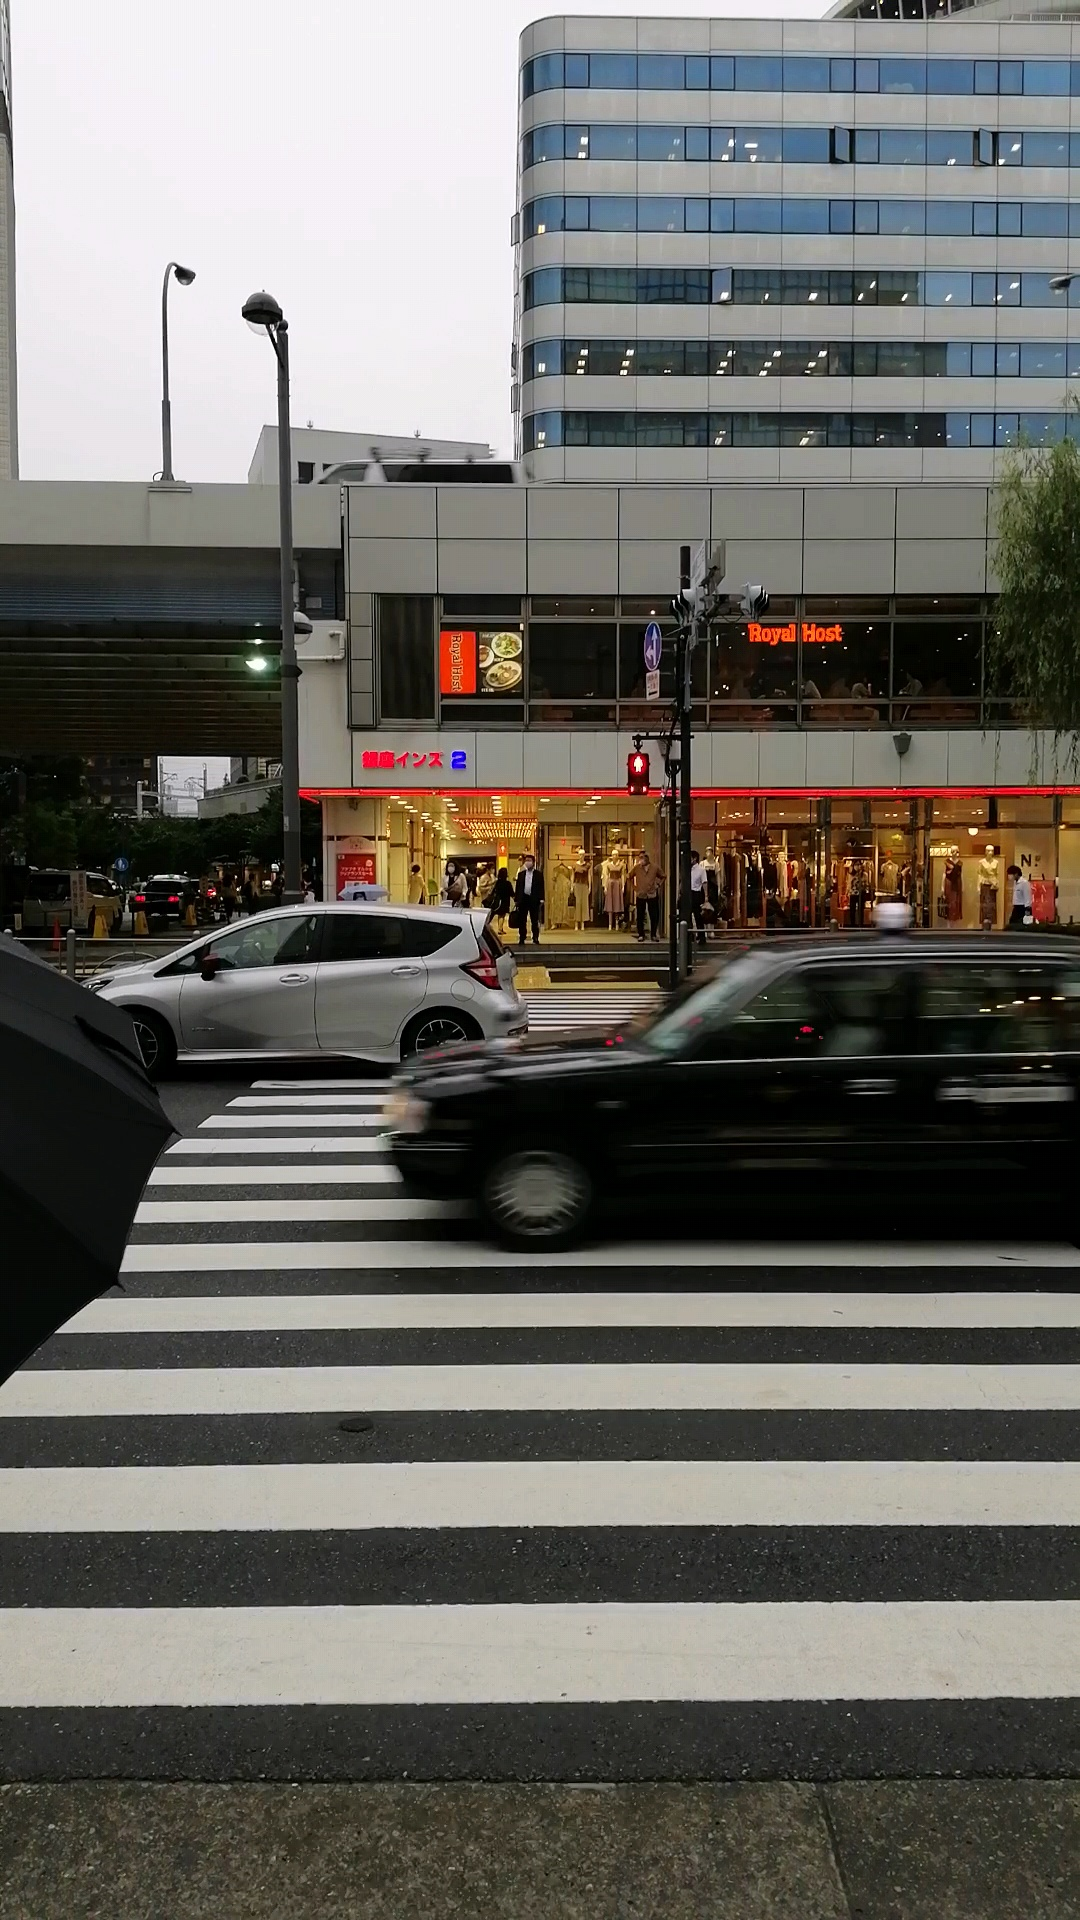red: (626, 752, 650, 796)
